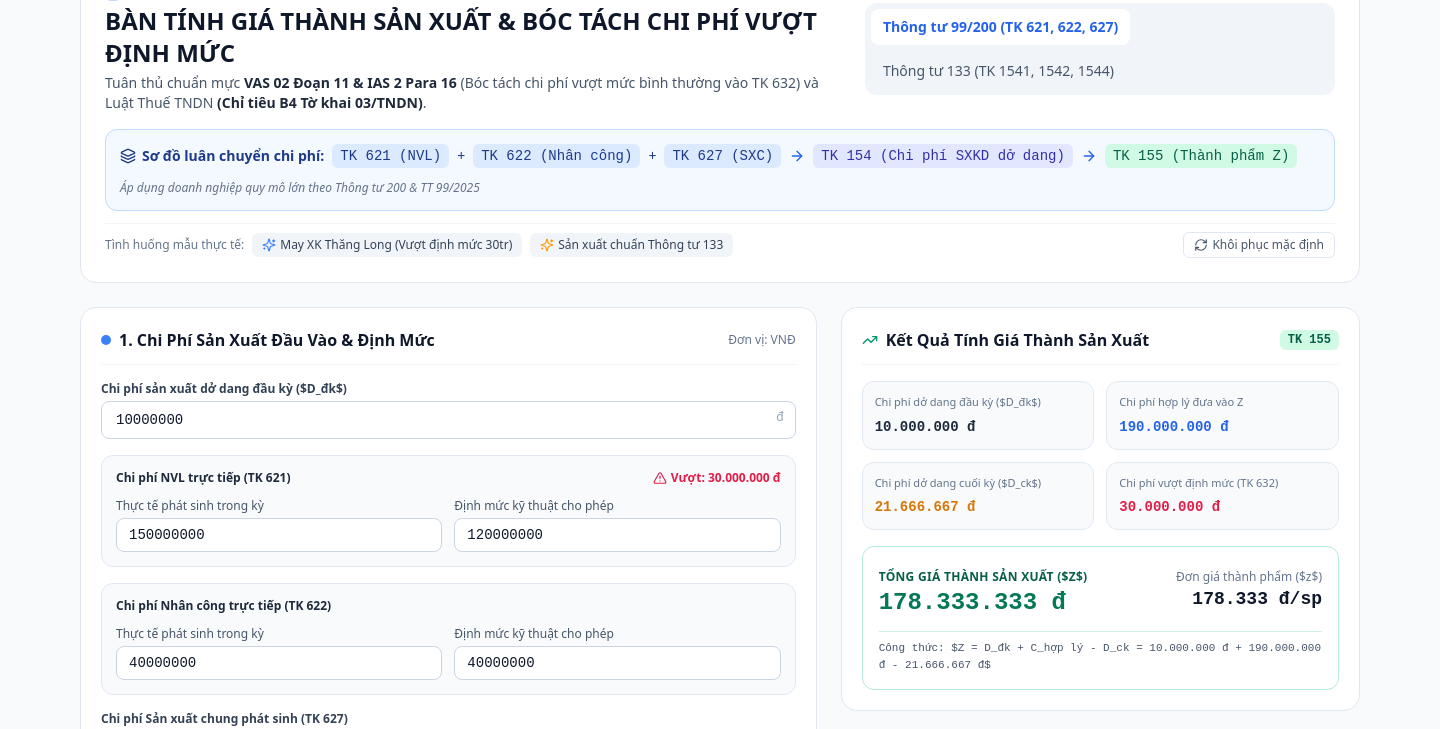
Test: Manufacturing Cost Workbench & Abnormal Waste Calculator (ManufacturingCostCalculator.tsx) › T3.6: Displays tax impact card: abnormal cost routed to TK 632 and resulting CIT impact at 20% (Chỉ tiêu B4)
// When abnormal waste is 0, warning should state no abnormal adjustments
Replace the text in the number field with test id "input-normal-direct-material" with "150000000" at (617,535), box [454, 518, 781, 552]
(page scrolled)
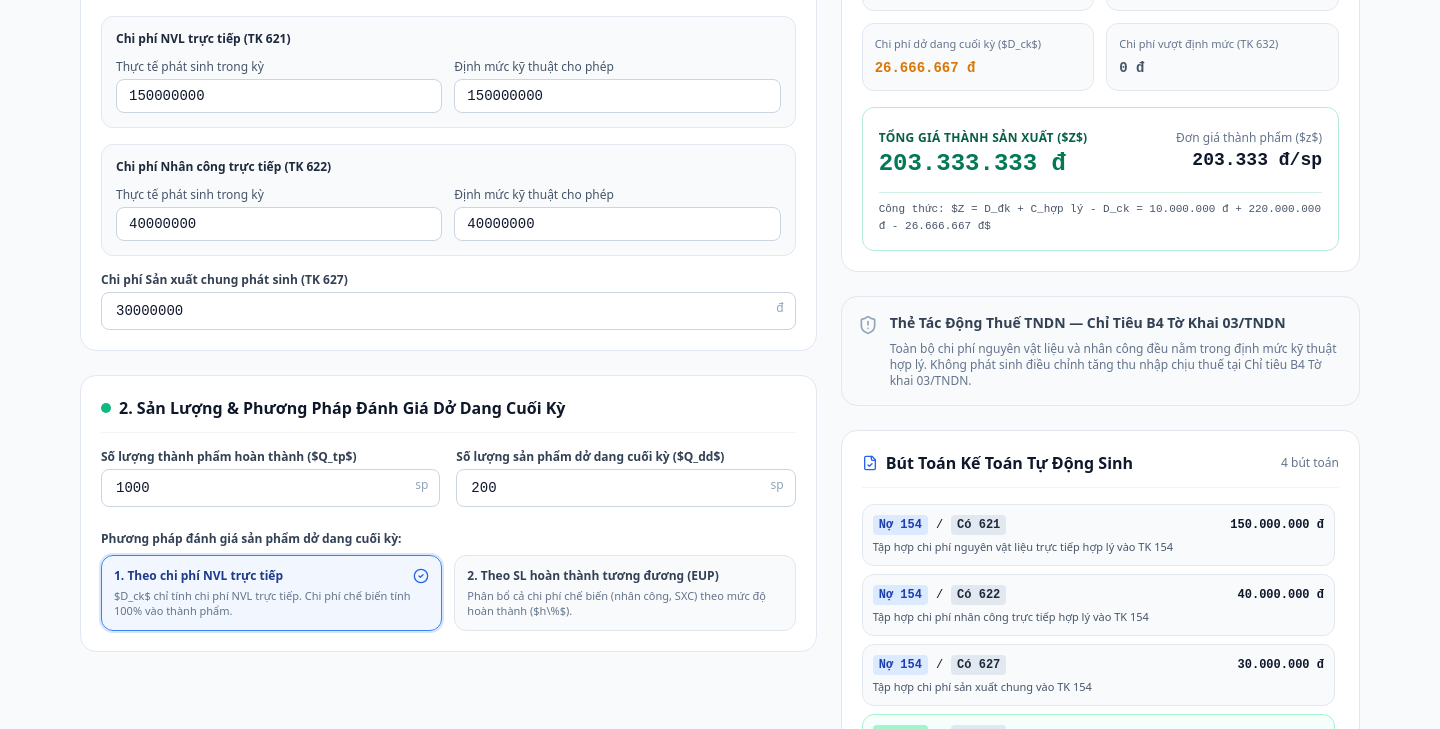
Expected: the text with test id "kpi-abnormal-waste" reads "0 đ", [1119, 60, 1144, 76]
Expected: the text "Không phát sinh điều chỉnh tăng thu nhập chịu thuế tại Chỉ tiêu B4" is shown, [890, 340, 1337, 389]
